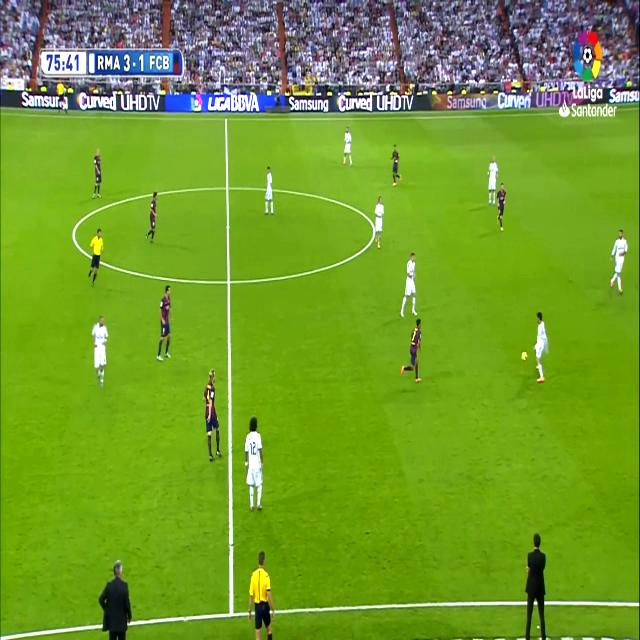halfcircle_bottom: (223, 267, 234, 294)
halfcircle_top: (222, 175, 232, 199)
midline_bottom_intersection: (224, 592, 240, 623)
midline_top_intersection: (222, 112, 230, 125)
